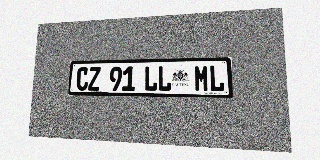1: (122, 66, 135, 91)
9: (109, 66, 122, 91)
C: (76, 67, 89, 91)
L: (209, 65, 225, 92), (144, 66, 157, 91), (158, 66, 171, 91)
M: (194, 65, 209, 92)
Z: (88, 67, 101, 91)
